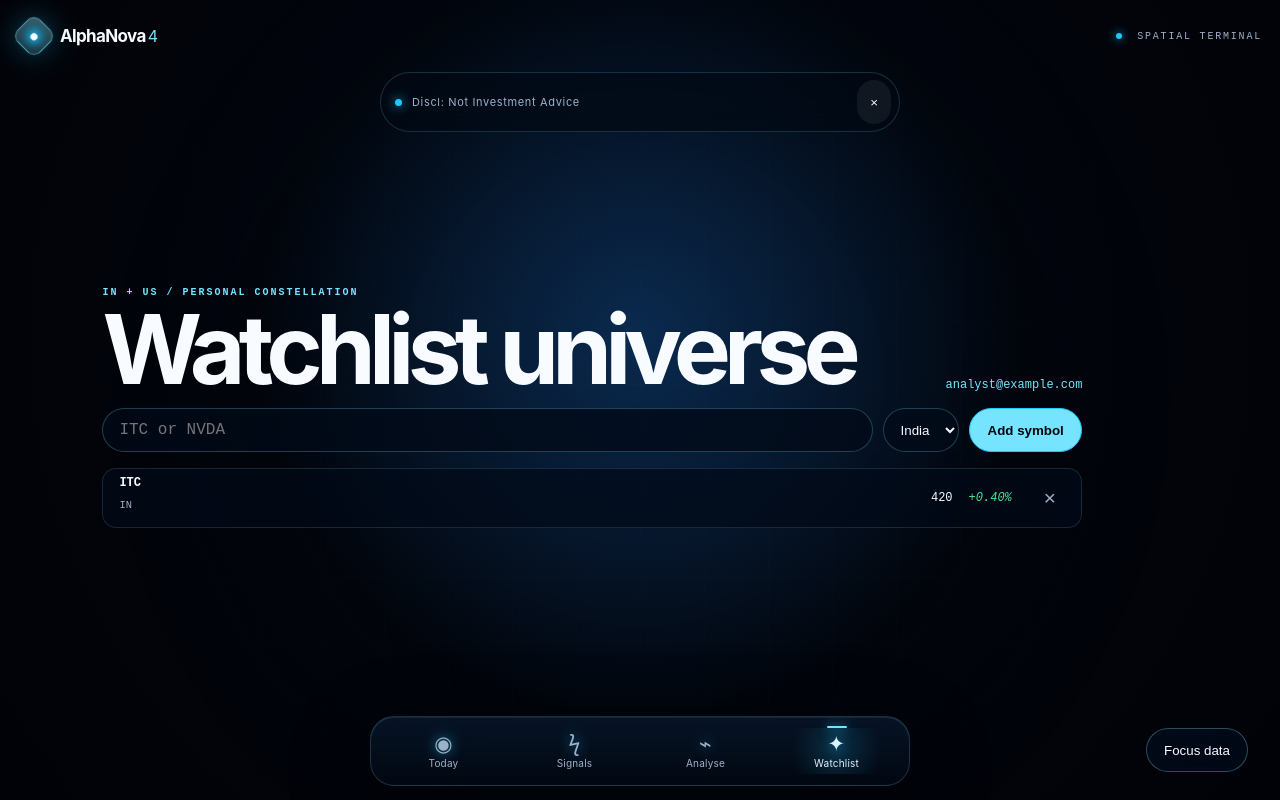
Test: authentication and watchlist › rolls back optimistic removal when the API rejects it
Click the button named "Remove ITC".
click(1050, 498)  # box [1028,476,1072,520]
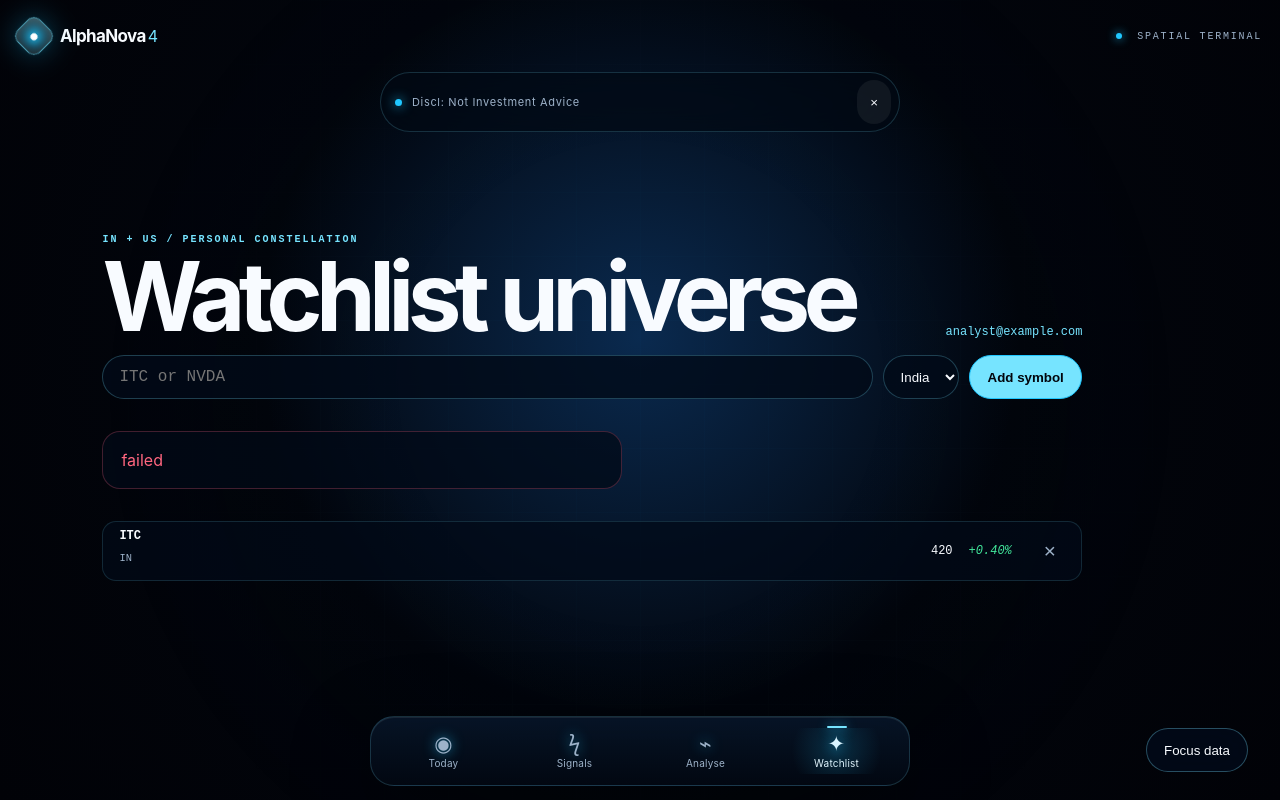
Expected: the text "ITC" is shown, [119,529,141,543]
Expected: the message reads "failed", [121,450,163,470]
